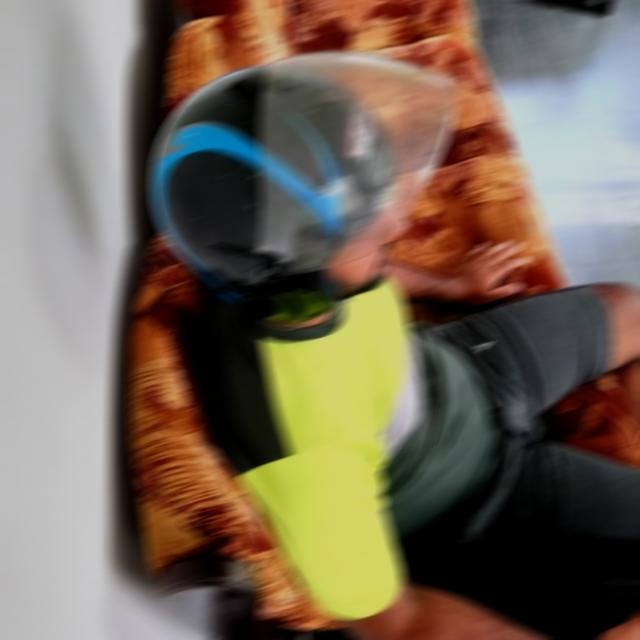With Helmet: (149, 49, 460, 322)
